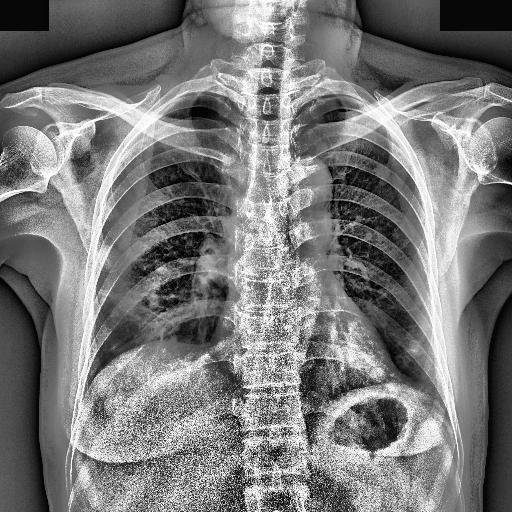0- Aortic enlargement: (288, 157, 334, 223), (277, 156, 332, 211), (282, 155, 330, 211)
7- Lung Opacity: (96, 288, 174, 340)
